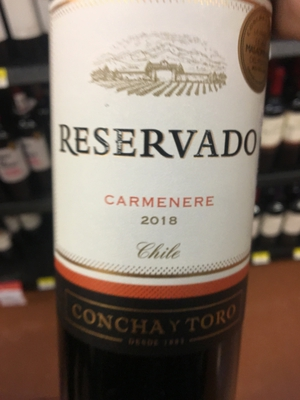reservado carmenere: (45, 3, 276, 400)
